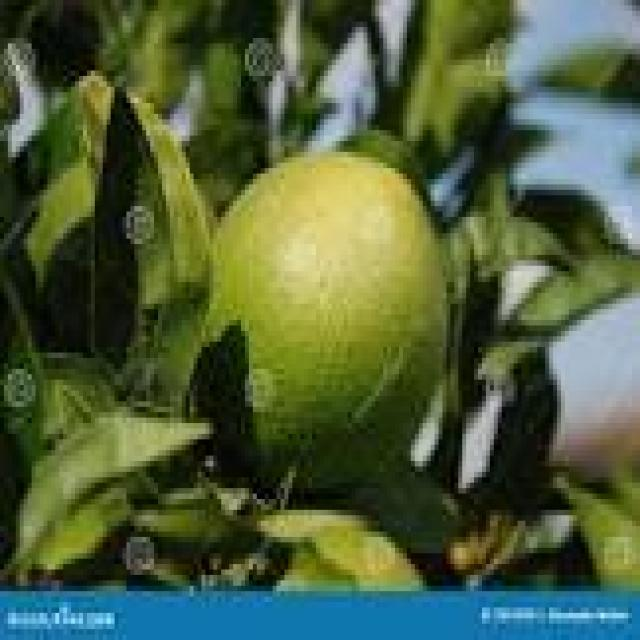orange: (209, 152, 442, 488)
